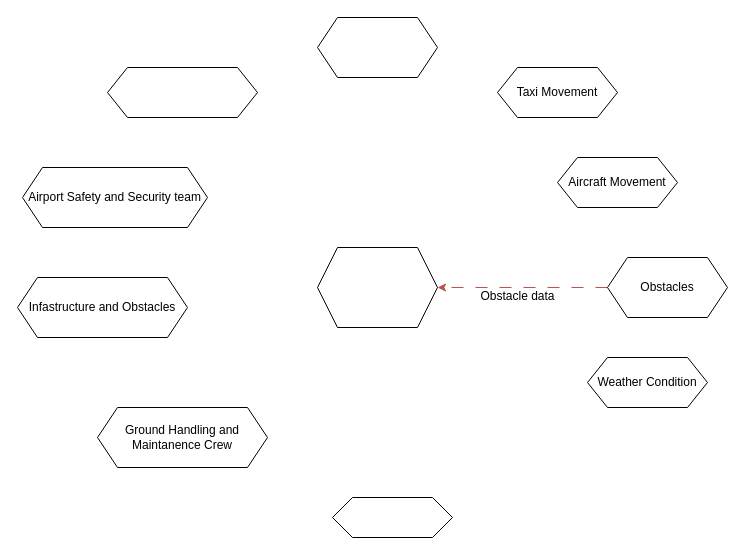
Image size: 745x555. Some labels were removed from this diagram. Each missing label, with the centre of its shape:
"Air traffic control(ATC)" belongs at (182,92).
"FODS" belongs at (377,287).
"Passenger" belongs at (377,47).
"Pilot and Crews" belongs at (392,517).
